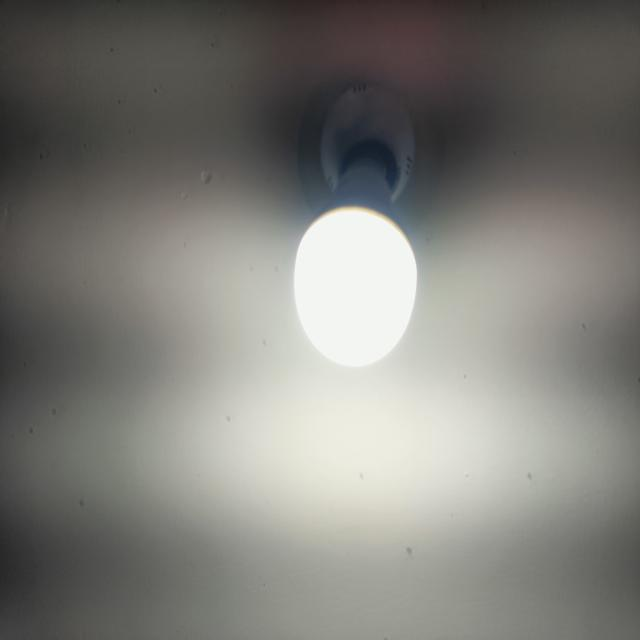bulb_on: (292, 203, 418, 369)
